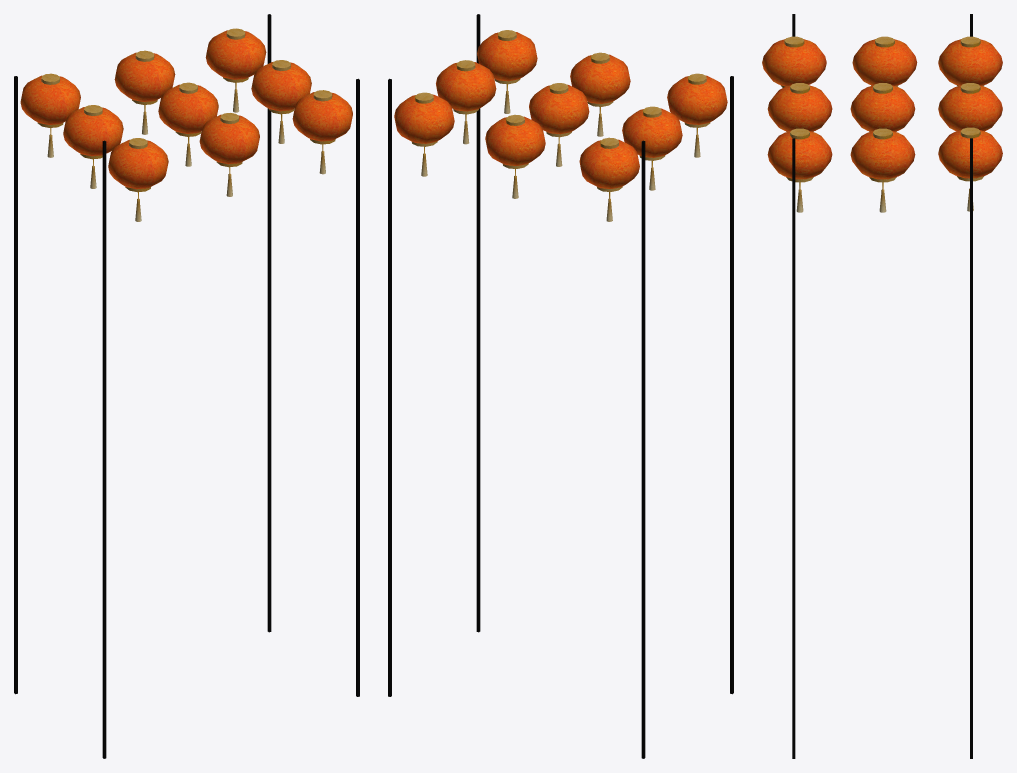
The model's file is lanterne.obj.
3 renders of one model, left to right at view 1: azimuth 30°, elevation 25°; view 2: azimuth 150°, elevation 25°; view 3: azimuth 270°, elevation 25°, orthographic.
Parts seen in each view (by area): view 1: lanterne_Sphere.000; view 2: lanterne_Sphere.000; view 3: lanterne_Sphere.000.
Part boxes in pixels (box(x1,y1,x2,y2)): lanterne_Sphere.000: box(14, 14, 359, 758); lanterne_Sphere.000: box(388, 14, 733, 758); lanterne_Sphere.000: box(762, 14, 1002, 758).
Bounding box in the file's own units: 8.4 × 19.34 × 6.82.
